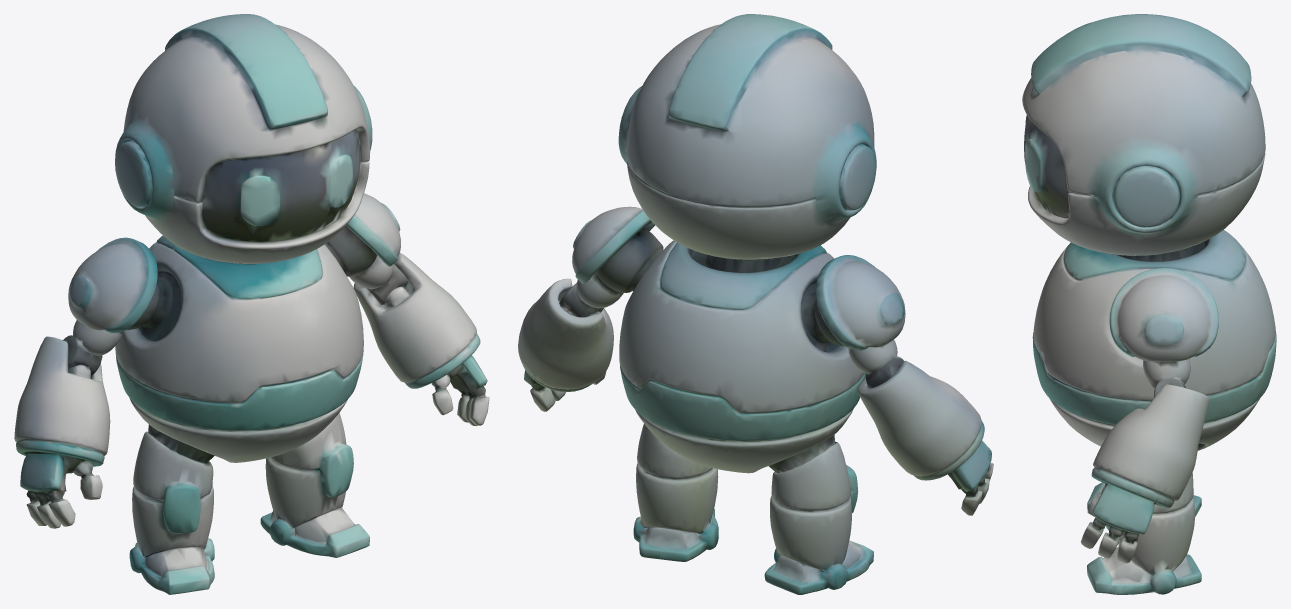
File: Player.glb
The picture shows the model from 3 angles, left to right: view 1: azimuth 30°, elevation 25°; view 2: azimuth 150°, elevation 25°; view 3: azimuth 270°, elevation 25°; orthographic projection.
Visible parts, largest first — view 1: geometry_0; view 2: geometry_0; view 3: geometry_0.
Boxes of the visible parts, box(x1,y1,x2,y2) form: geometry_0: box(14, 14, 489, 594); geometry_0: box(518, 14, 993, 594); geometry_0: box(1022, 14, 1276, 594).
Size of the model in its own units: 0.8768 by 0.9805 by 0.4313.
